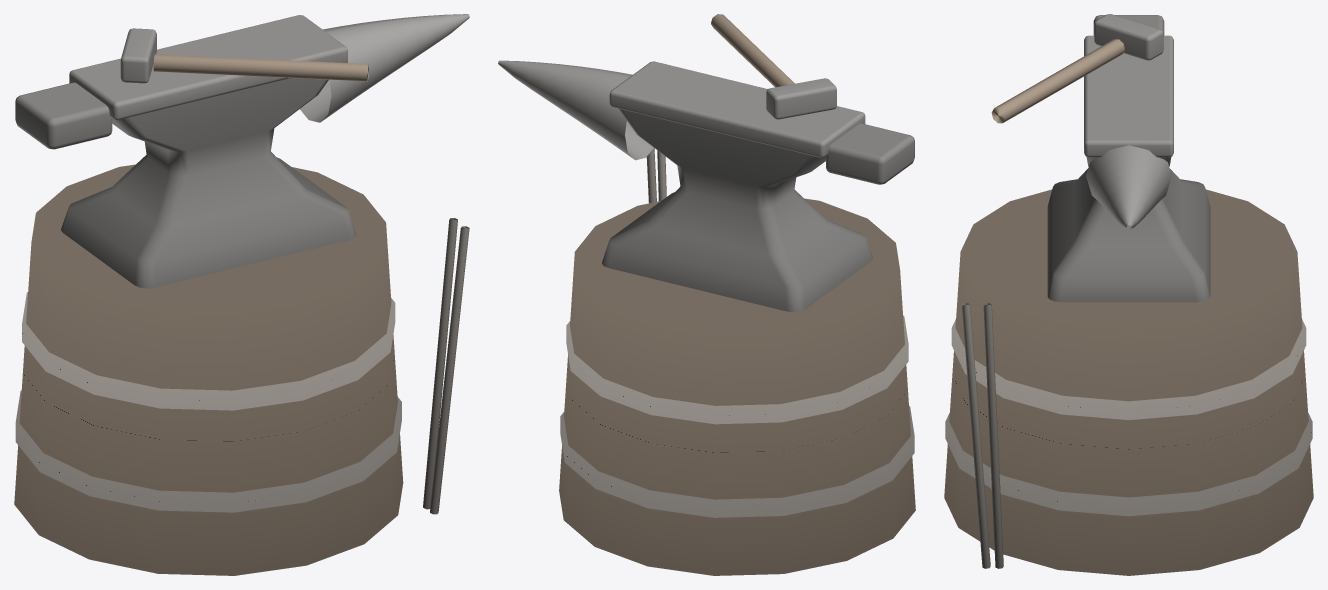
The model's file is anvil.glb.
The picture shows the model from 3 angles, left to right: view 1: azimuth 30°, elevation 25°; view 2: azimuth 150°, elevation 25°; view 3: azimuth 270°, elevation 25°; orthographic projection. The views are drawn at different scales.
Parts seen in each view (by area): view 1: anvil; view 2: anvil; view 3: anvil.
Boxes of the visible parts, bbox=[...] form: anvil: bbox=[14, 14, 469, 575]; anvil: bbox=[498, 14, 915, 575]; anvil: bbox=[944, 14, 1313, 575].
Size of the model in its own units: 0.875 by 0.8957 by 0.68.
